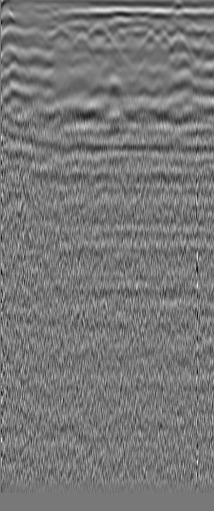오수: (27, 24, 47, 44)
우수: (153, 27, 173, 47)
